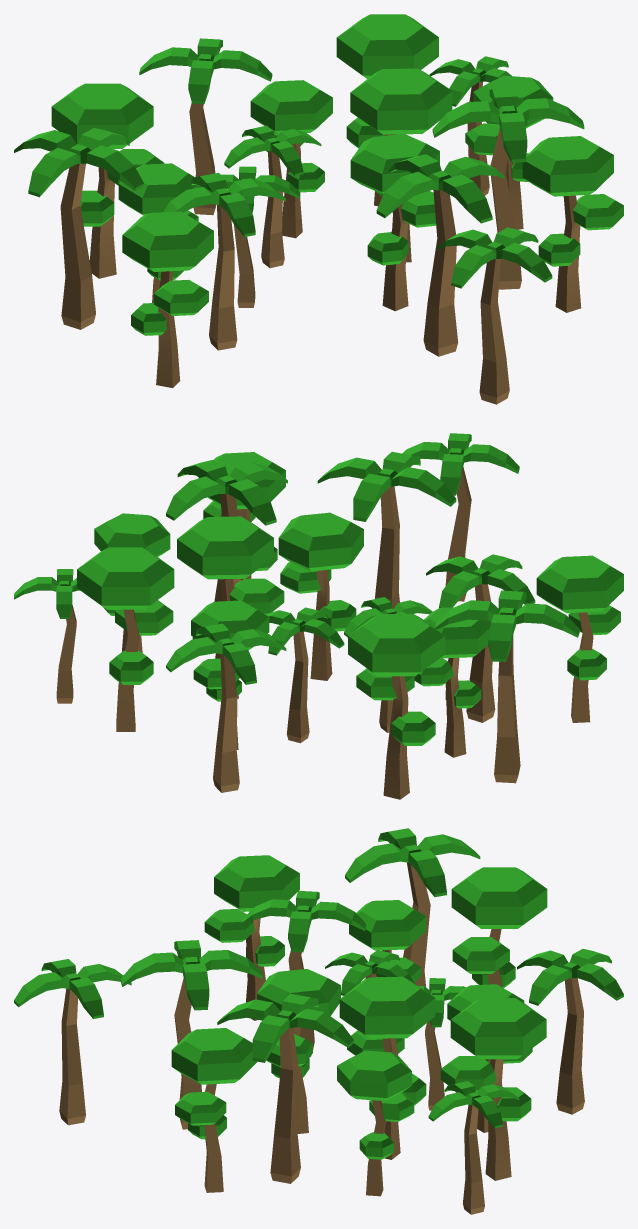
Rendered from nature_jungleRiverDelta.fbx.
3 renders of one model, top to bottom at view 1: azimuth 30°, elevation 25°; view 2: azimuth 150°, elevation 25°; view 3: azimuth 270°, elevation 25°, orthographic. The views are drawn at different scales.
Visible parts, largest first — view 1: Jungle; view 2: Jungle; view 3: Jungle.
Part boxes in pixels (left/top/right/bottom): Jungle: left=14, top=14, right=623, bottom=404; Jungle: left=14, top=433, right=623, bottom=799; Jungle: left=14, top=828, right=623, bottom=1214.
Size of the model in its own units: 193 by 61.77 by 202.
